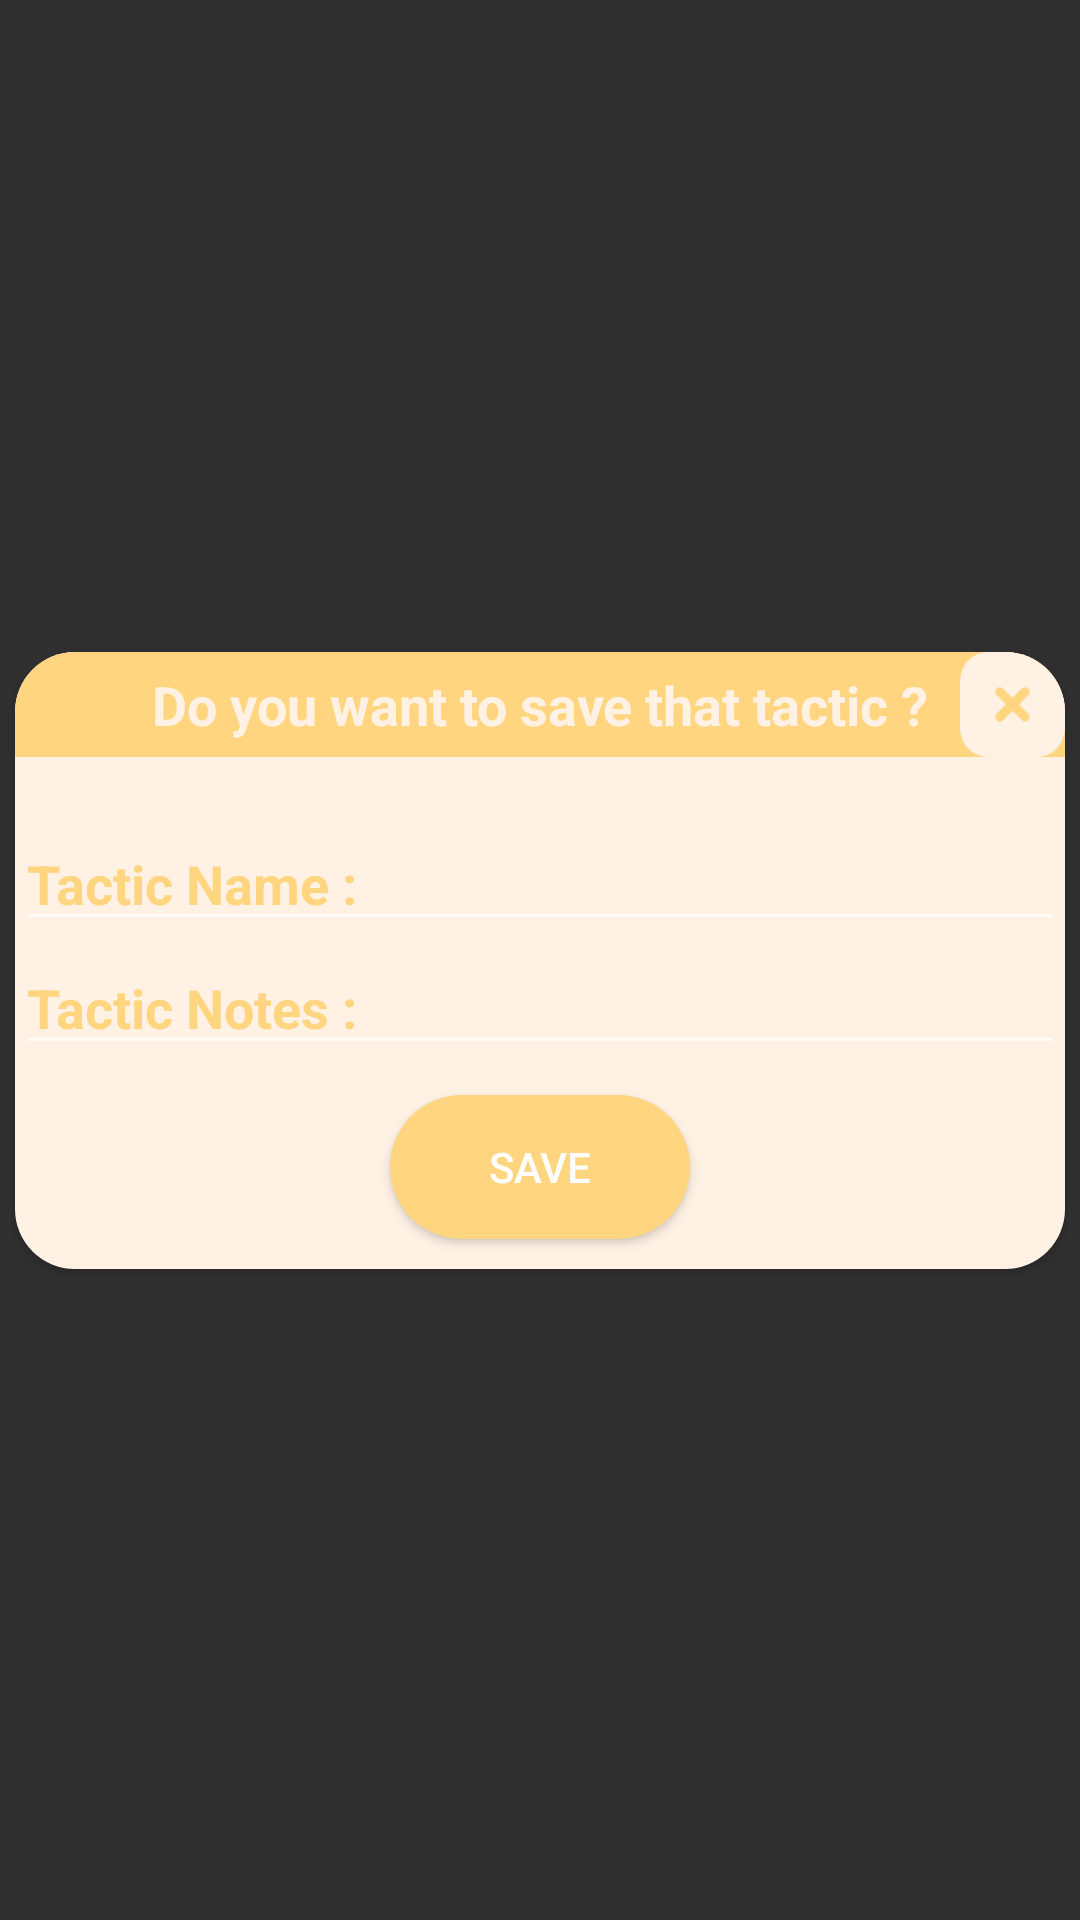

Named icons in this screenshot (1080w x 1920h) and their centers, (x=x, y=y):
close: (x=1012, y=704)
